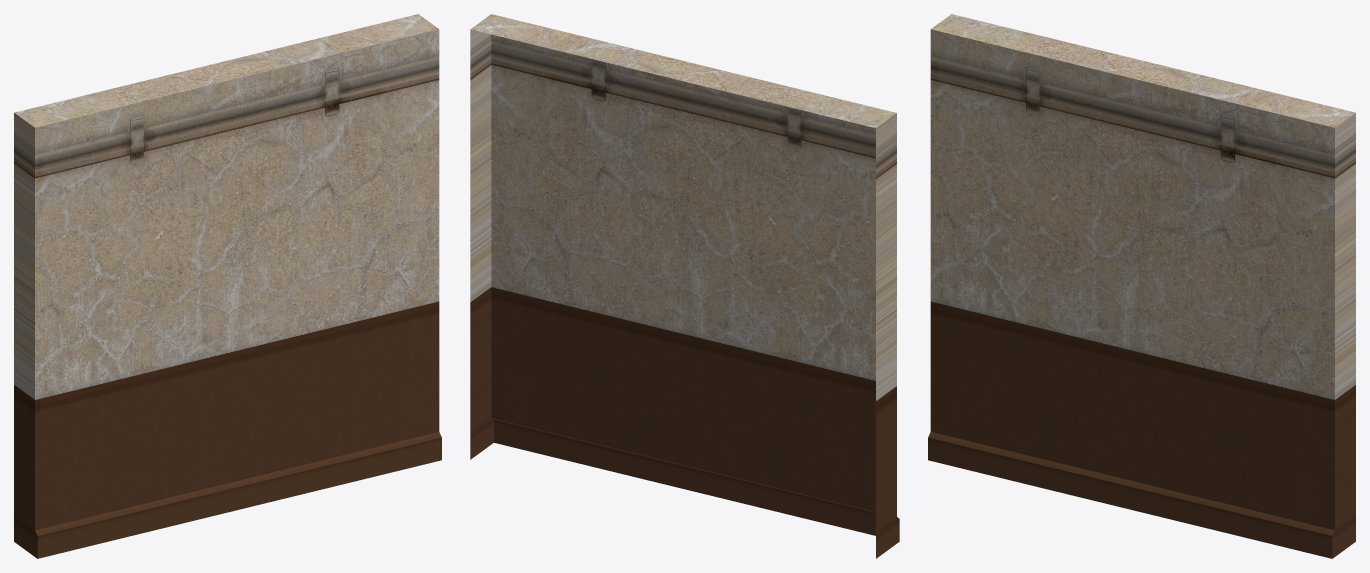
Rendered from Wall_Servplain_Med.fbx.
The picture shows the model from 3 angles, left to right: view 1: azimuth 30°, elevation 25°; view 2: azimuth 150°, elevation 25°; view 3: azimuth 330°, elevation 25°; orthographic projection.
Parts seen in each view (by area): view 1: Wall_servants_med; view 2: Wall_servants_med; view 3: Wall_servants_med.
Boxes of the visible parts, box(x1,y1,x2,y2) form: Wall_servants_med: box(14, 14, 441, 558); Wall_servants_med: box(470, 14, 899, 558); Wall_servants_med: box(928, 14, 1355, 558).
Bounding box in the file's own units: 366 × 371 × 36.72.
